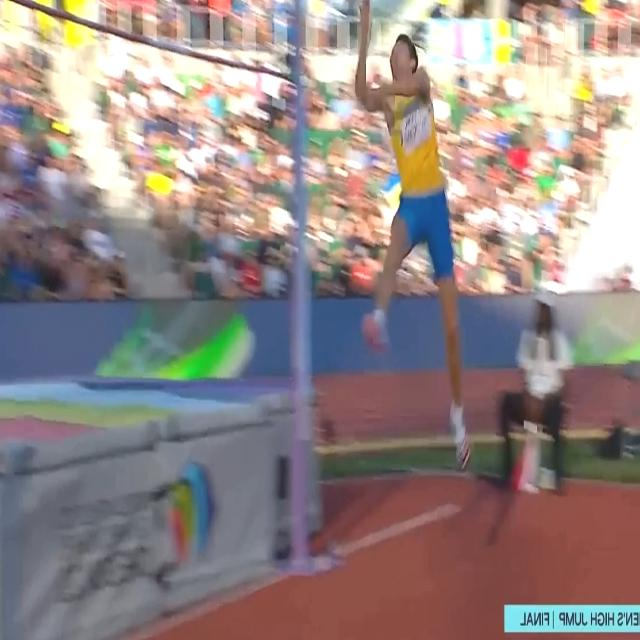jump: (352, 0, 475, 473)
